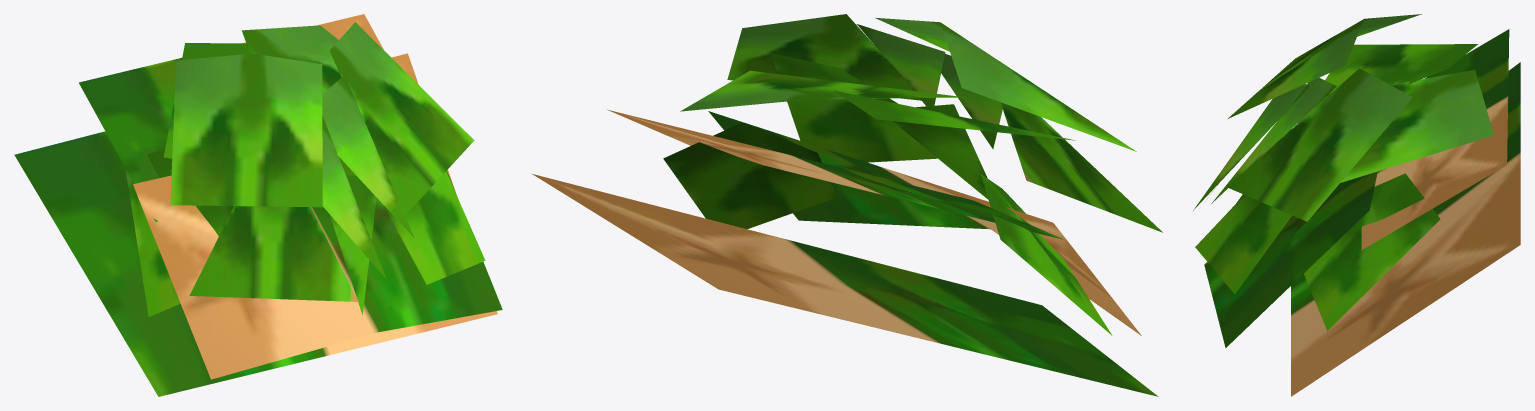
The model's file is fg_bushE_2.dae.
3 renders of one model, left to right at view 1: azimuth 30°, elevation 25°; view 2: azimuth 150°, elevation 25°; view 3: azimuth 270°, elevation 25°, orthographic. The views are drawn at different scales.
Parts seen in each view (by area): view 1: fg_bushE_2; view 2: fg_bushE_2; view 3: fg_bushE_2.
Boxes of the visible parts, x1=… form: fg_bushE_2: x1=14, y1=14, x2=502, y2=396; fg_bushE_2: x1=532, y1=14, x2=1162, y2=396; fg_bushE_2: x1=1193, y1=14, x2=1520, y2=396.
Size of the model in its own units: 50.84 by 35.08 by 37.48.
Materials: 1 (1 with a texture image).
